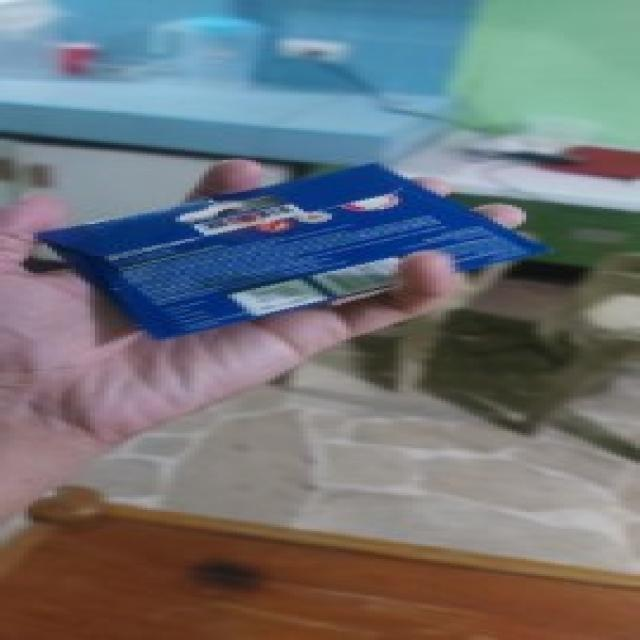Cacat: (48, 131, 526, 330)
